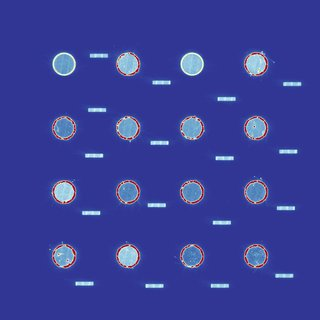overheated: (242, 51, 270, 77), (115, 115, 142, 141), (243, 115, 269, 142), (115, 51, 141, 77), (51, 115, 77, 141), (243, 179, 269, 205), (180, 115, 205, 141), (179, 180, 205, 205), (115, 180, 140, 205), (116, 244, 141, 269), (180, 243, 205, 268), (51, 180, 77, 204), (52, 244, 77, 268), (244, 244, 268, 269)
